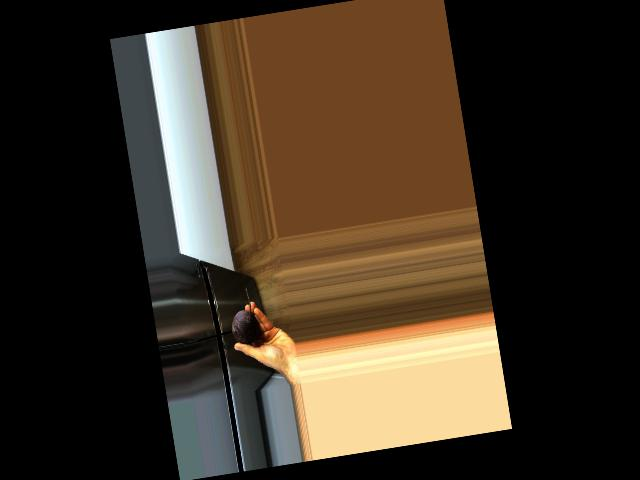beet: (225, 285, 260, 346)
